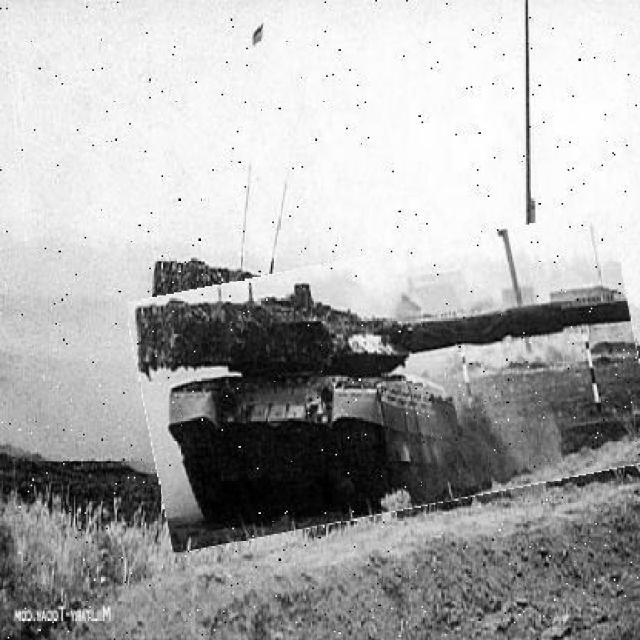Tank: (137, 232, 640, 535)
